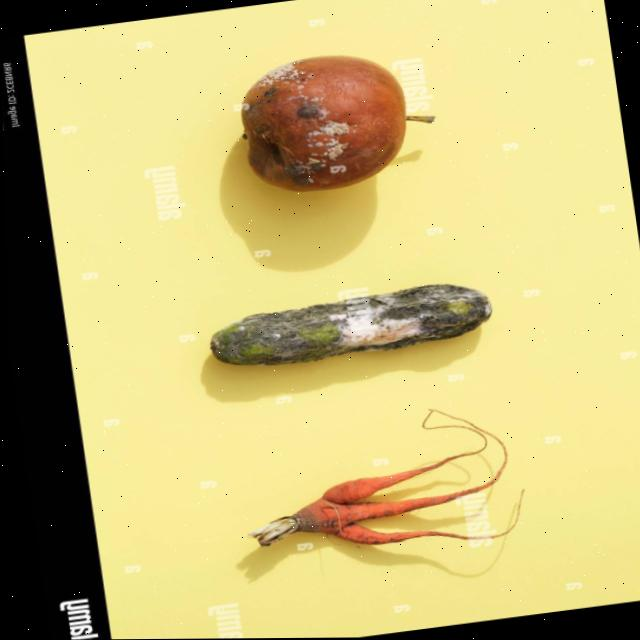Wet: (232, 399, 527, 570), (232, 41, 446, 198), (202, 278, 495, 376)
